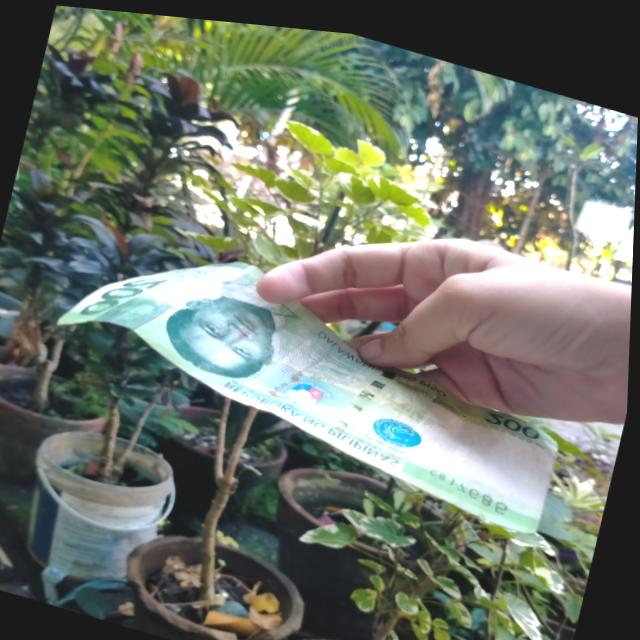security_thread: (325, 342, 404, 461)
value: (79, 251, 175, 335)
